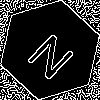N: (25, 25, 84, 83)
